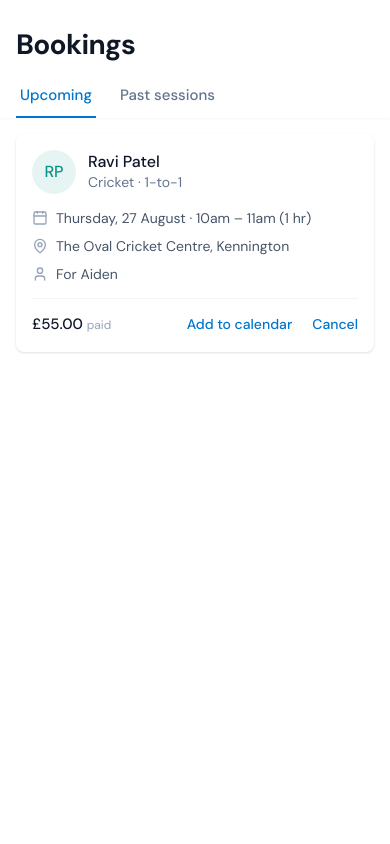
it: ParentBookingsClient › opens the inline cancel panel and hides the action row while open
What coordinates should you click on to do the following:
click the button "Cancel"
I would click on:
 (335, 324)
Its box is [312, 314, 358, 334].
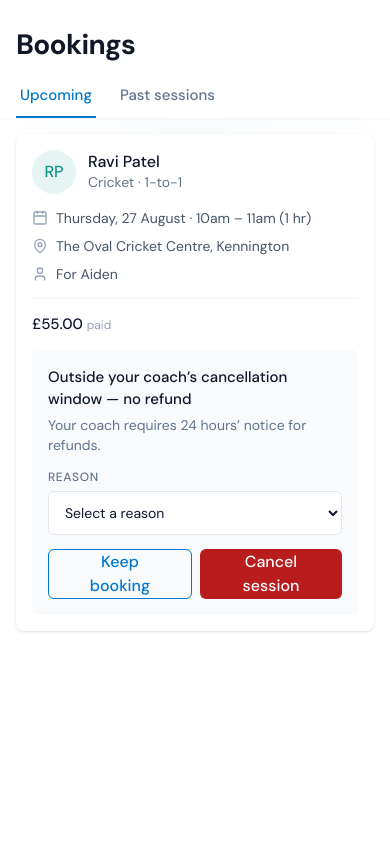
Expected: the element with test id "cancel-panel" is shown, [32, 350, 358, 614]
What coordinates should you click on to do the following:
click the button "Keep booking"
I would click on:
 (120, 574)
Its box is [48, 548, 192, 598].
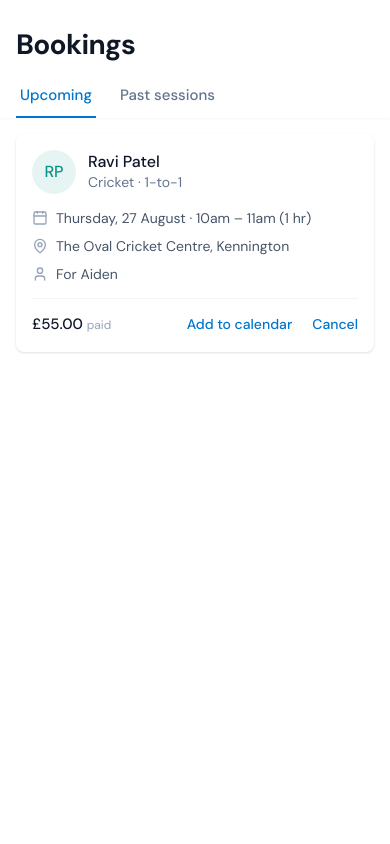
Expected: the button "Cancel" is shown, [312, 314, 358, 334]
Expected: no elements with test id "cancel-panel" are shown
